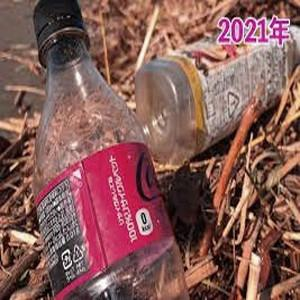Plastic: (23, 0, 195, 300), (141, 28, 300, 157)
